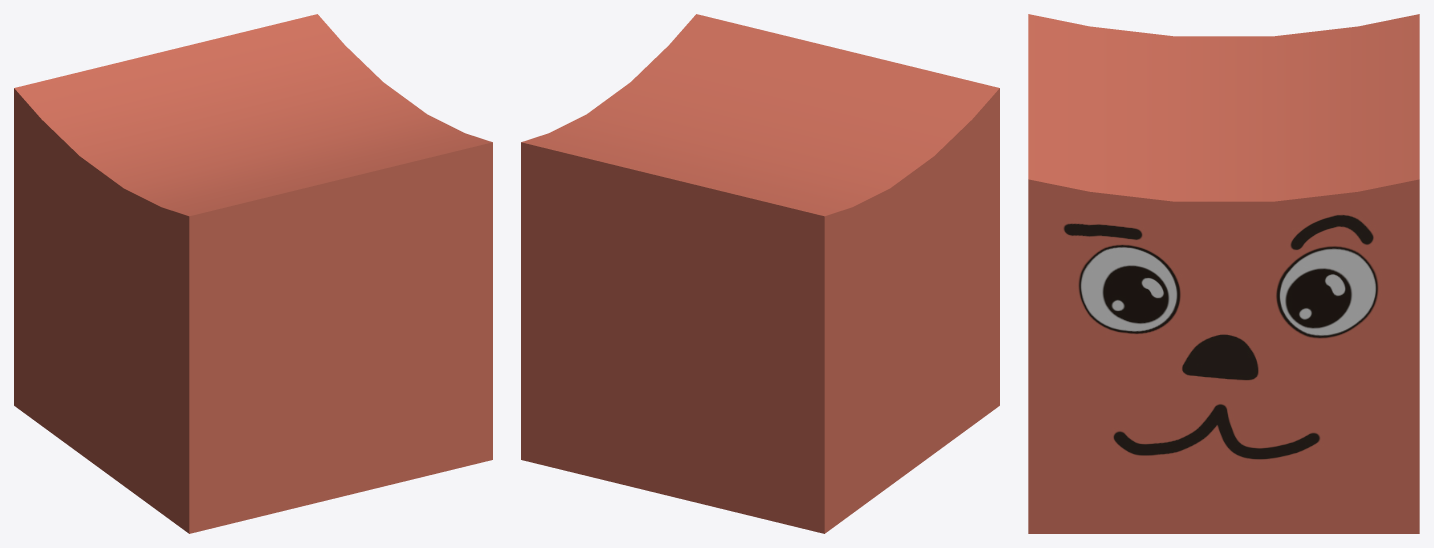
File: dog3.fbx
3 renders of one model, left to right at view 1: azimuth 30°, elevation 25°; view 2: azimuth 150°, elevation 25°; view 3: azimuth 270°, elevation 25°, orthographic. The views are drawn at different scales.
Visible parts, largest first — view 1: Cube; view 2: Cube; view 3: Cube.
Part boxes in pixels (x1=…): Cube: x1=14, y1=14, x2=492, y2=533; Cube: x1=521, y1=14, x2=999, y2=533; Cube: x1=1028, y1=14, x2=1419, y2=533.
Size of the model in its own units: 200 by 200 by 200.
